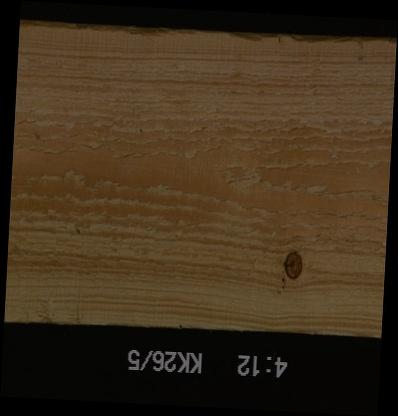dry_knot: (282, 249, 304, 281)
wave: (19, 28, 395, 49)
